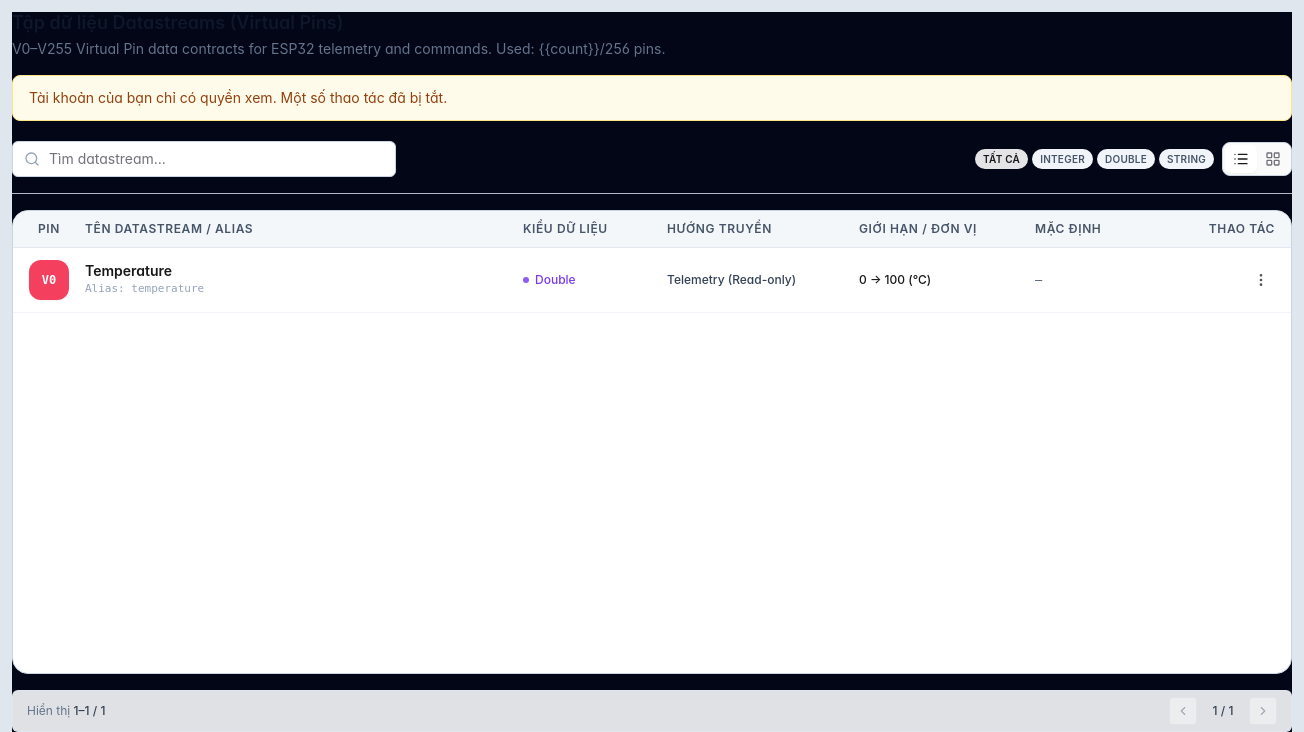
Test: Workspace presentation permissions › keeps datastream copy available but hides create, edit and delete actions for viewers
This screenshot has width=1304, height=732.
Check: the text "Temperature" is shown, box [85, 262, 172, 279]
What coordinates should you click on to do the following:
click the button named "Thao tác cho {{name}}"
I would click on:
 (1261, 280)
Its box is [1247, 266, 1275, 294].
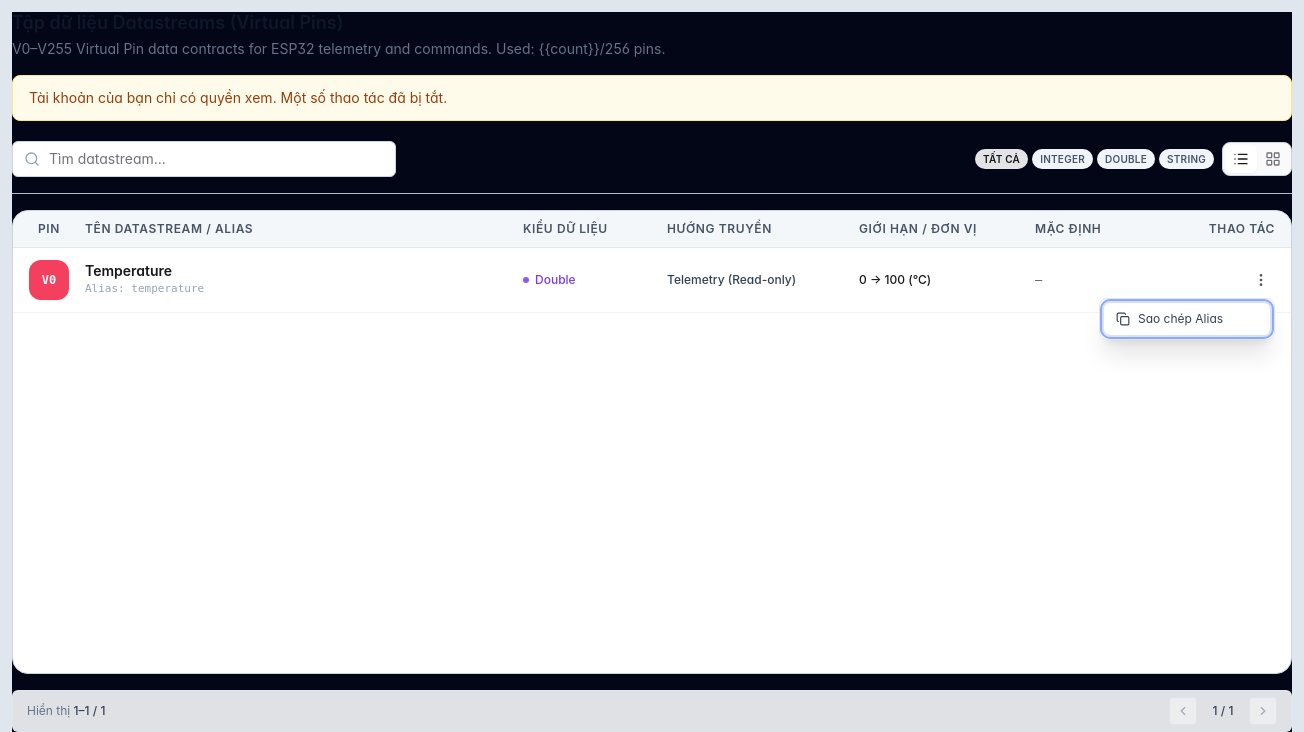
Check: the text "Sao chép Alias" is shown, box [1138, 310, 1223, 326]
